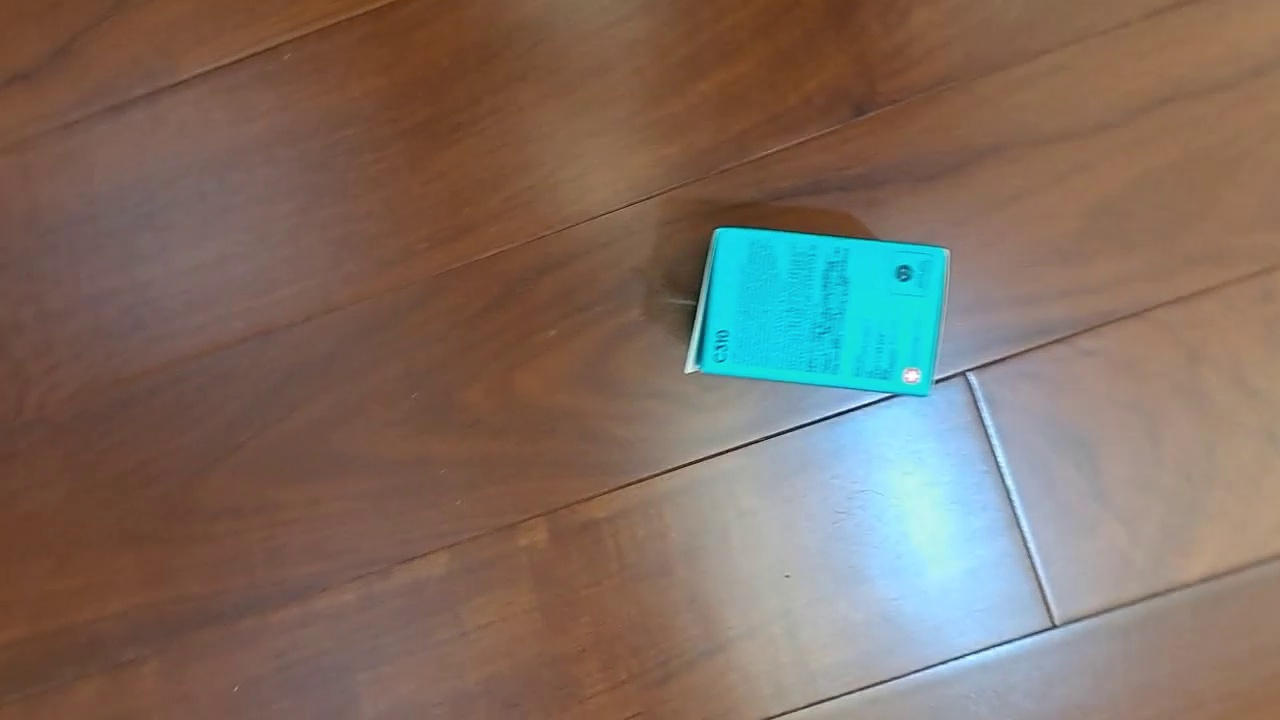webcam: (683, 225, 952, 397)
